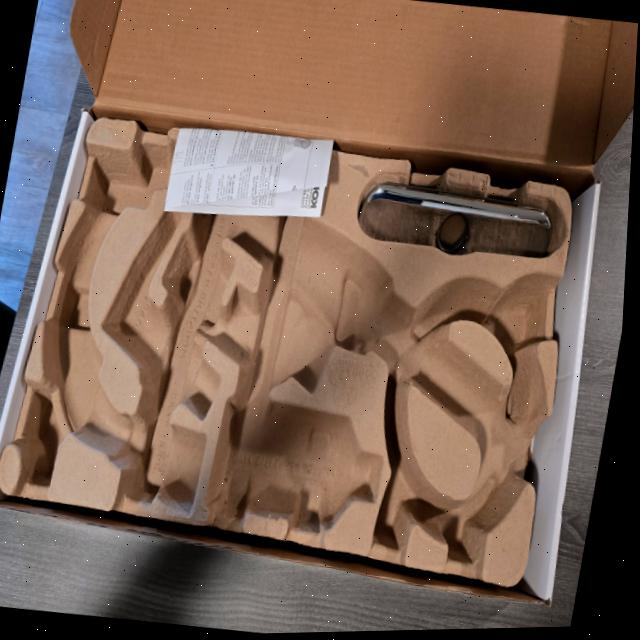1m: (44, 141, 544, 511)
2m: (102, 212, 218, 414)
3m: (204, 400, 381, 529)
4: (357, 181, 549, 257)
5m: (489, 296, 531, 354)
6m: (446, 479, 497, 556)
7m: (373, 449, 419, 542)
8: (163, 124, 333, 215)
